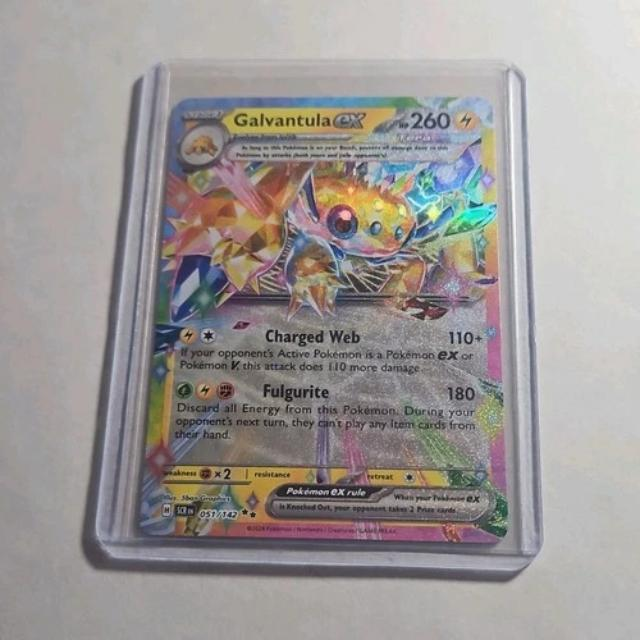Card: (132, 91, 524, 548)
Name: (228, 106, 370, 129)
